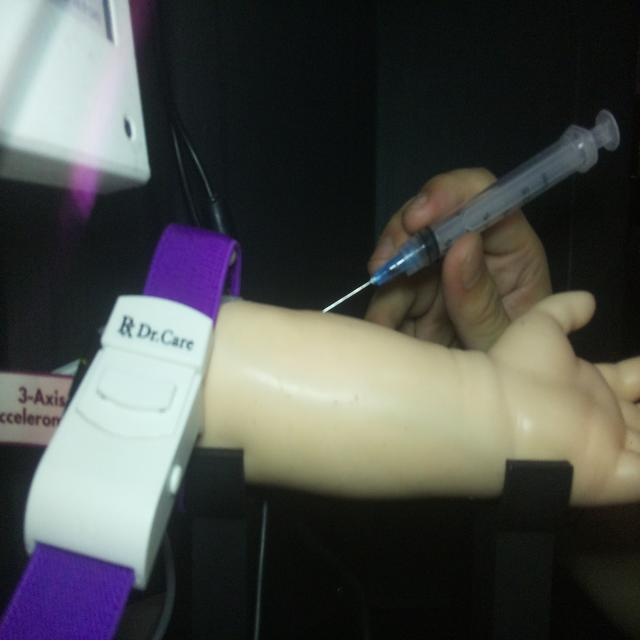23 degrees: (320, 105, 621, 316)
